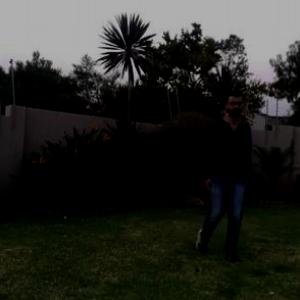follow: (206, 95, 250, 248)
